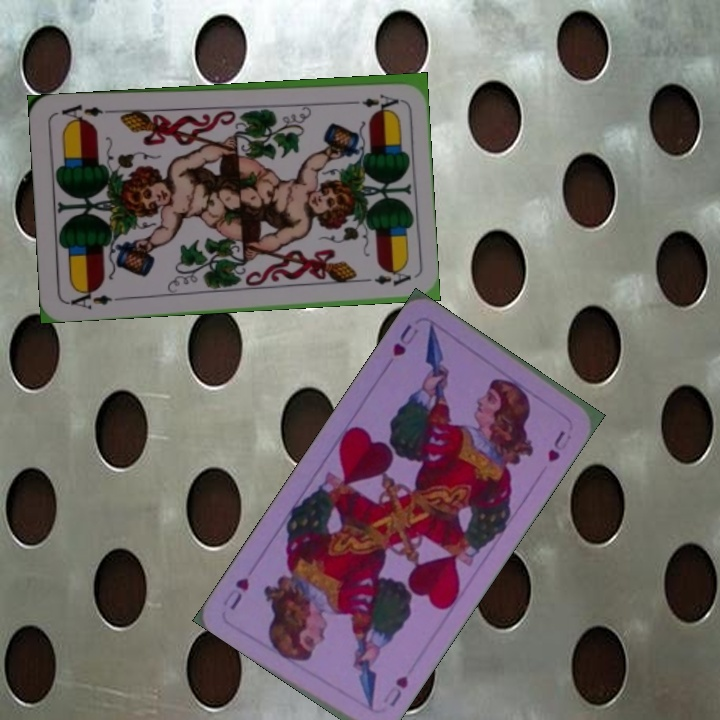EA: (64, 284, 123, 312), (343, 90, 401, 110)
HU: (388, 320, 422, 359), (379, 671, 411, 710)
